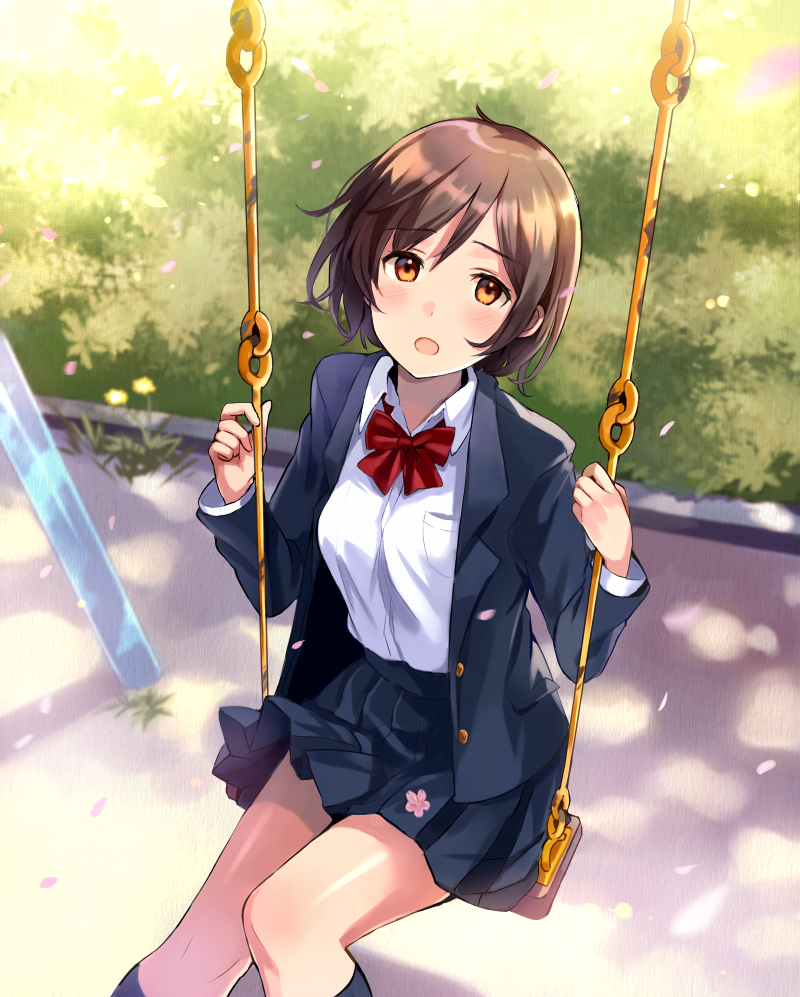纸片人正脸: (315, 108, 583, 388)
